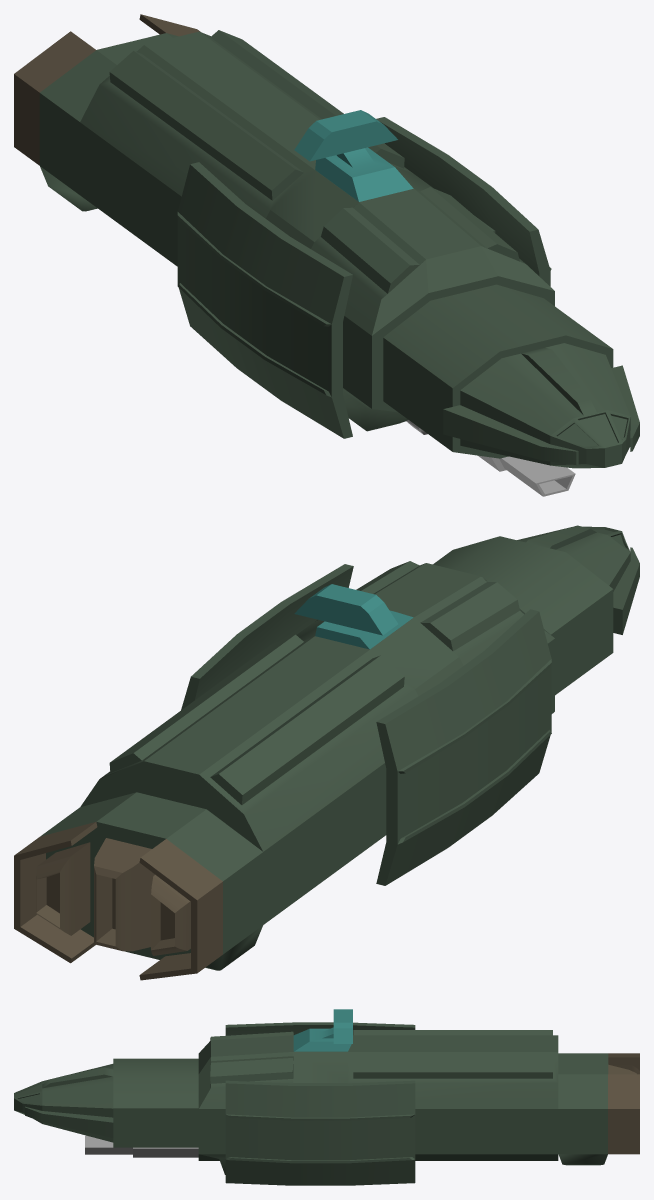
File: UpdatedCapitalShipUV.fbx
The picture shows the model from 3 angles, top to bottom: view 1: azimuth 30°, elevation 25°; view 2: azimuth 150°, elevation 25°; view 3: azimuth 270°, elevation 25°; orthographic projection. The views are drawn at different scales.
Visible parts, largest first — view 1: polySurface7, TopPart, Thruster, WeaponSystem; view 2: polySurface7, Thruster, TopPart; view 3: polySurface7, Thruster, TopPart, WeaponSystem.
Boxes of the visible parts, bbox=[...] form: polySurface7: bbox=[39, 30, 639, 468]; TopPart: bbox=[294, 110, 413, 201]; Thruster: bbox=[14, 14, 200, 165]; WeaponSystem: bbox=[406, 420, 575, 496]; polySurface7: bbox=[40, 525, 639, 970]; Thruster: bbox=[14, 822, 222, 980]; TopPart: bbox=[294, 584, 413, 649]; polySurface7: bbox=[14, 1022, 608, 1185]; Thruster: bbox=[608, 1053, 639, 1154]; TopPart: bbox=[293, 1009, 352, 1051]; WeaponSystem: bbox=[85, 1135, 198, 1157].
Bounding box in the file's own units: 303 × 297 × 1092.
